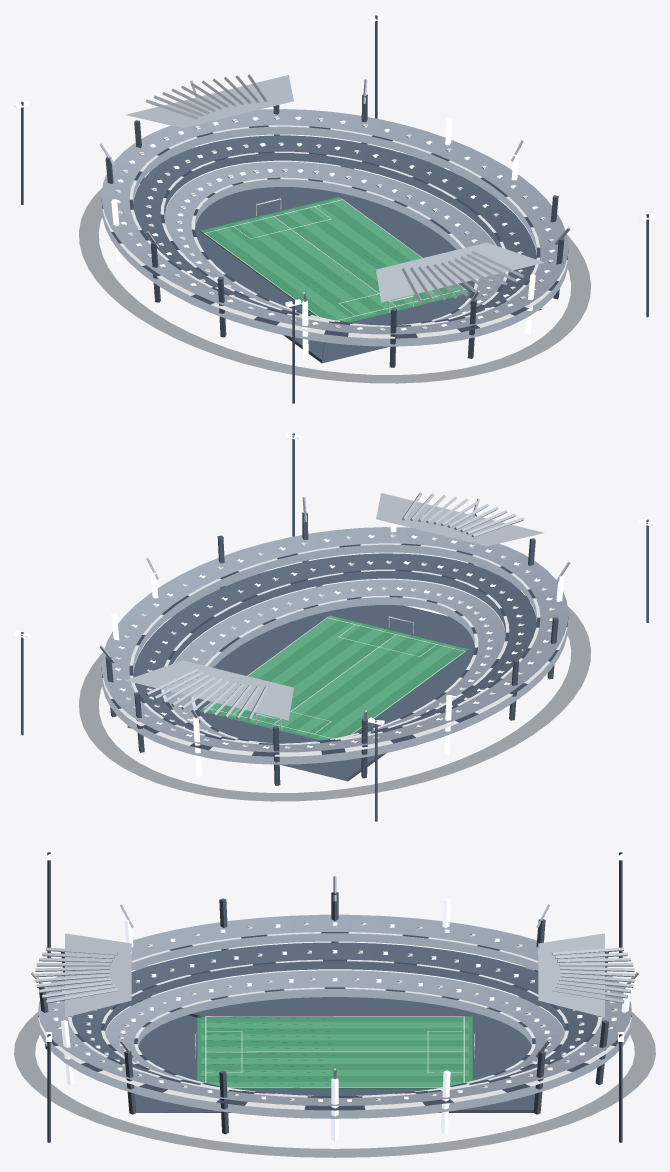
File: nilton-santos.glb
3 views of the same model, one above another, from view 1: azimuth 30°, elevation 25°; view 2: azimuth 150°, elevation 25°; view 3: azimuth 270°, elevation 25° (orthographic). The views are drawn at different scales.
Visible parts, largest first — view 1: Nilton Santos; view 2: Nilton Santos; view 3: Nilton Santos.
Boxes of the visible parts, x1,y1,x2,y2 form: Nilton Santos: [14, 14, 655, 403]; Nilton Santos: [14, 432, 655, 821]; Nilton Santos: [14, 850, 655, 1157].
Size of the model in its own units: 70.99 by 17.65 by 91.01.
